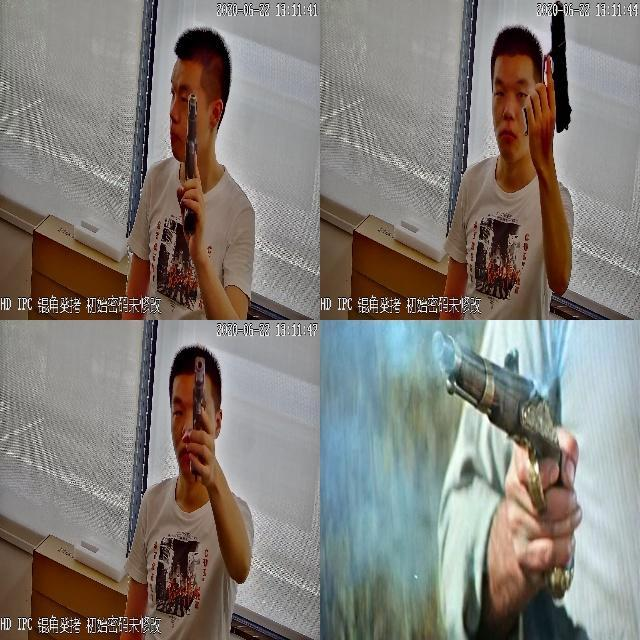gun-knife-thesis - v11 Yolov5 augmented: (430, 324, 579, 602), (522, 0, 571, 137), (173, 354, 221, 480), (168, 89, 205, 230)
